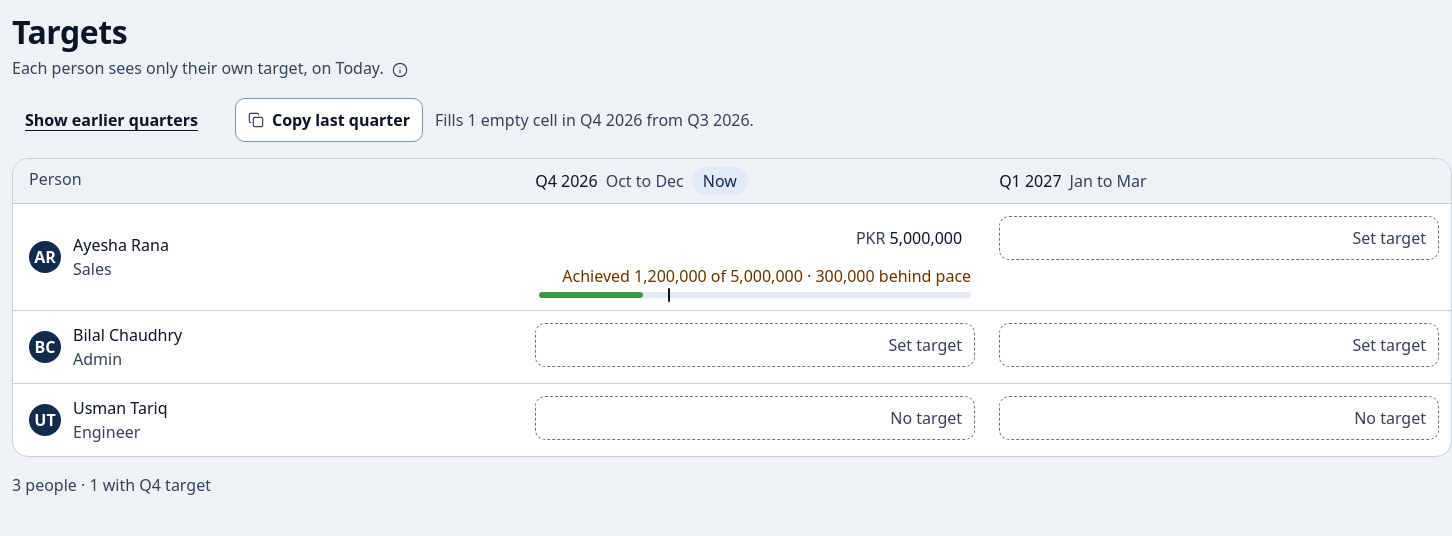
Scenario: Targets (M06) › Escape cancels, and nothing is saved
The image size is (1452, 536).
Expected: the text "Ayesha Rana" is shown, [73,233,169,257]
Click the 2nd button "Set target" at (925, 345), box [535,323,975,367]
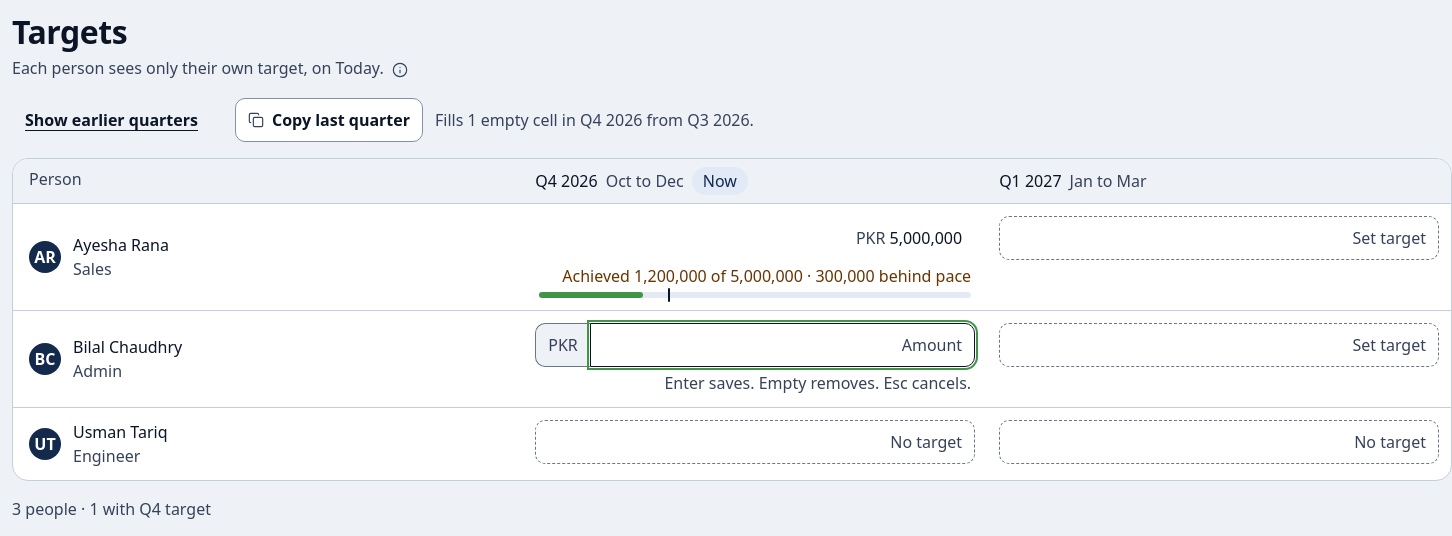
Type keys "123{Escape}"
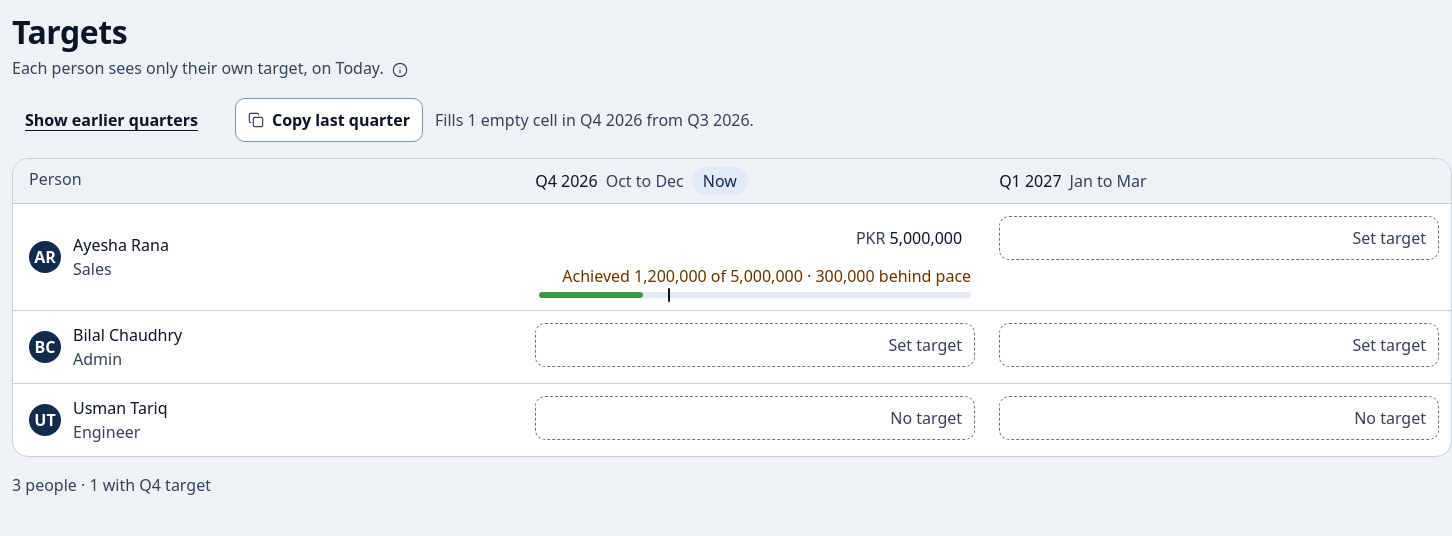
Expected: the field is gone
